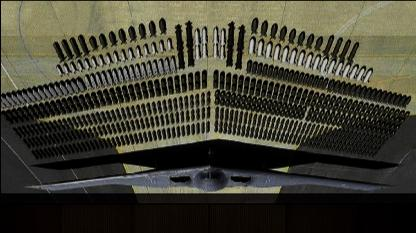B1: (23, 145, 395, 191)
